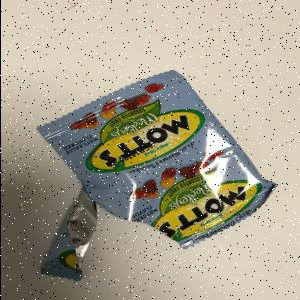Trash: (36, 69, 280, 283)
